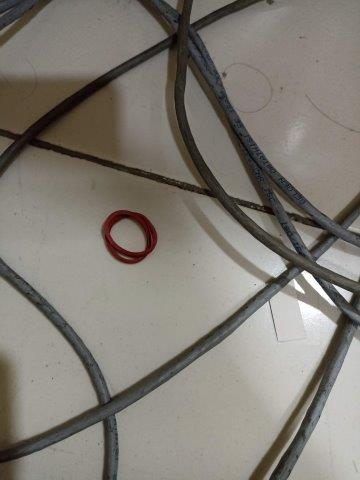karet: (102, 209, 158, 265)
